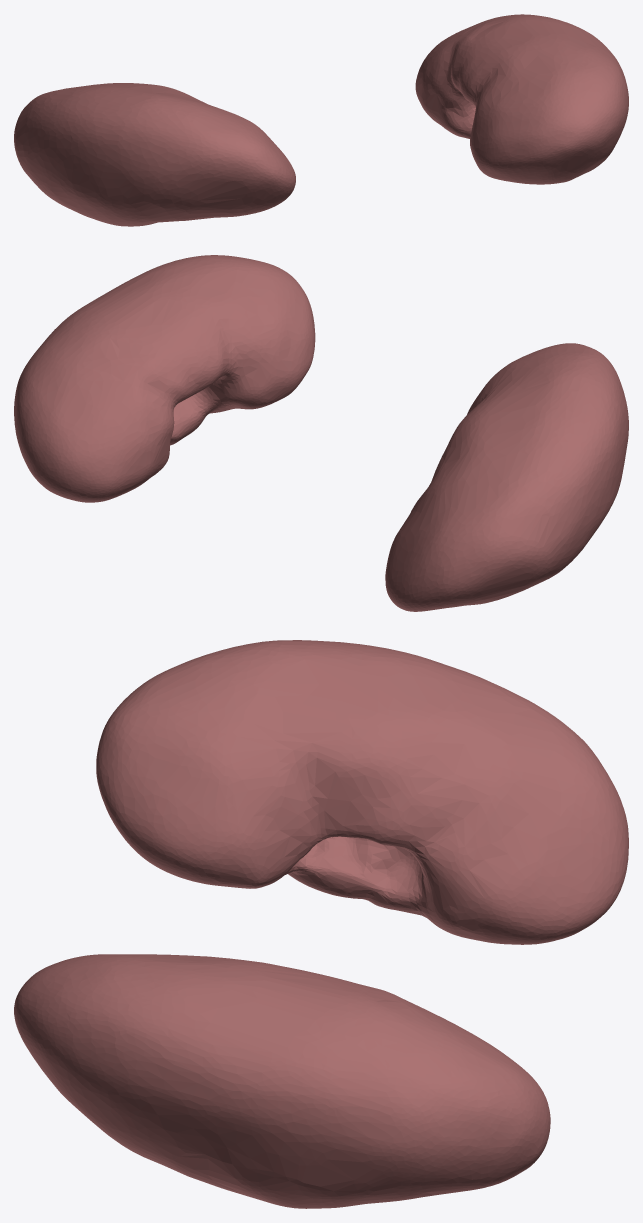
The model's file is reins.glb.
3 renders of one model, top to bottom at view 1: azimuth 30°, elevation 25°; view 2: azimuth 150°, elevation 25°; view 3: azimuth 270°, elevation 25°, orthographic. The views are drawn at different scales.
Parts seen in each view (by area): view 1: world; view 2: world; view 3: world.
Boxes of the visible parts, left/top/right/bottom form: world: left=14, top=14, right=628, bottom=226; world: left=14, top=255, right=628, bottom=611; world: left=14, top=640, right=628, bottom=1208.
Bounding box in the file's own units: 2 × 0.5876 × 1.31.
